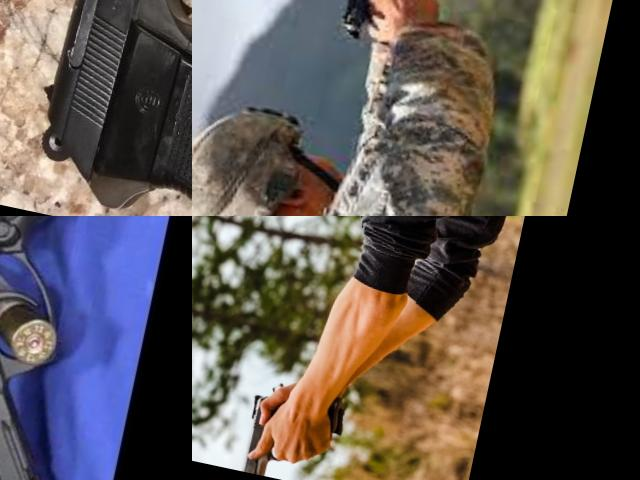handgun: (0, 216, 192, 480), (18, 0, 192, 216), (235, 373, 353, 480), (331, 0, 430, 75)
